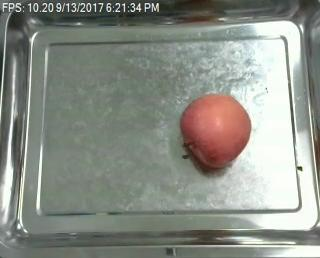apple: (178, 92, 253, 169)
